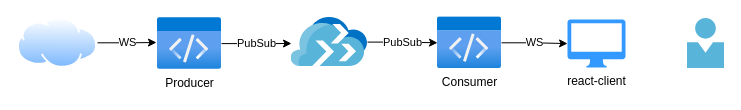
Some shapes in this 741 by 110 pixel diagram are drawn without their labels. Each missing label, with the centre of its shape:
Exchange: pixel 57 42
Nats.IO: pixel 329 41
